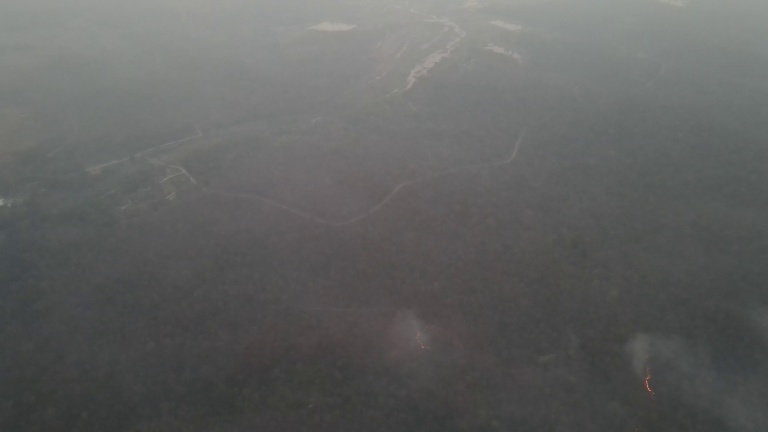fire: (641, 365, 661, 402), (411, 322, 433, 351)
smoke: (622, 325, 752, 429), (376, 305, 485, 391)
